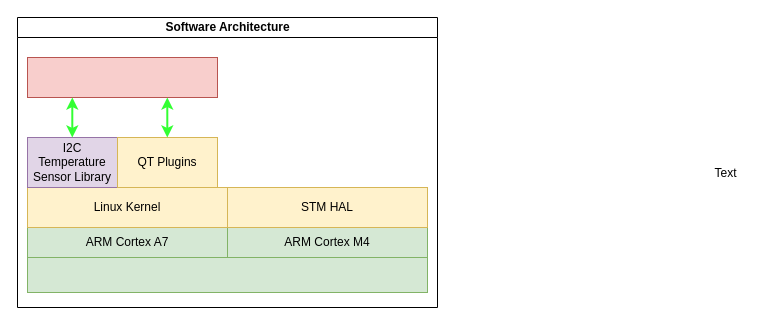
This 763x325 diagram has some shape labels left out. Each missing label, with the centre of its shape:
"Display Application" goes at point (122, 77).
"STM32MP1" goes at point (227, 274).
